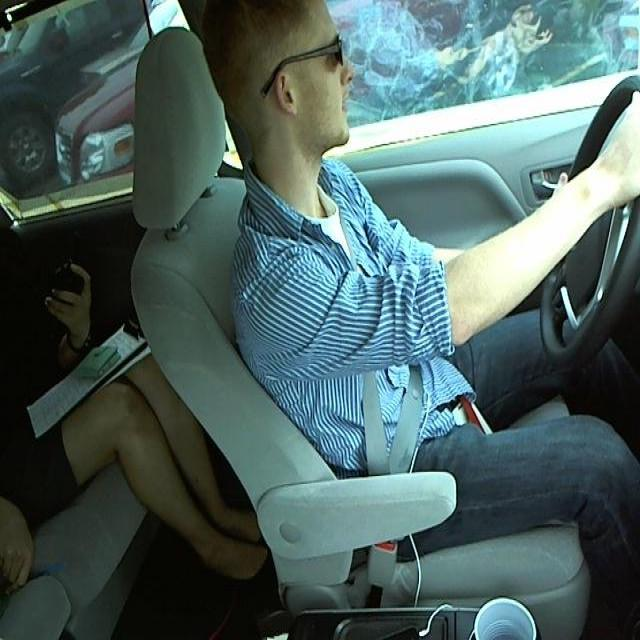without_using_phone: (168, 6, 367, 181)
